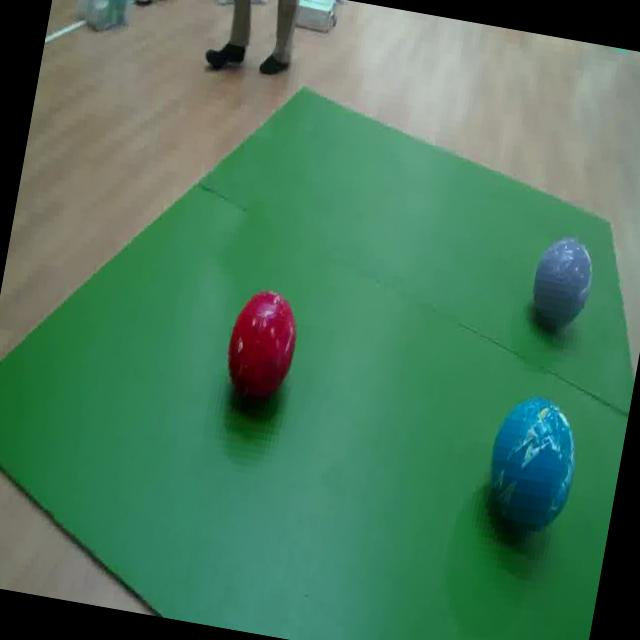blue_ball: (476, 390, 586, 556)
purple_ball: (526, 232, 601, 338)
red_ball: (218, 289, 308, 415)
